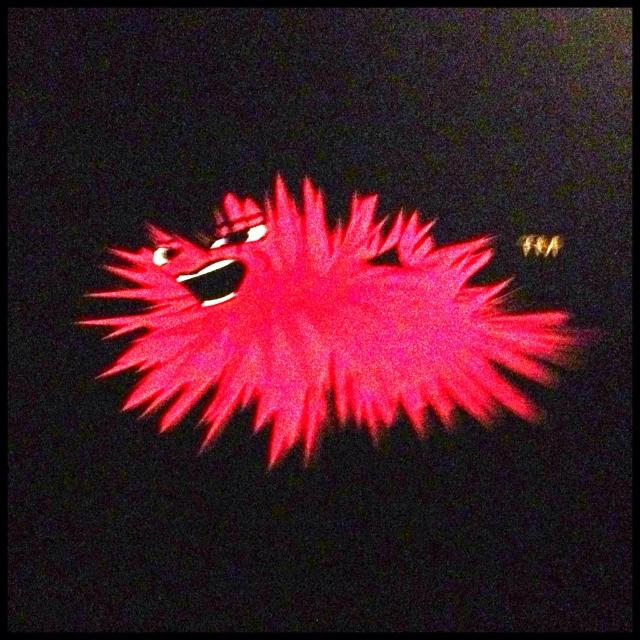Flower: (88, 170, 576, 470)
